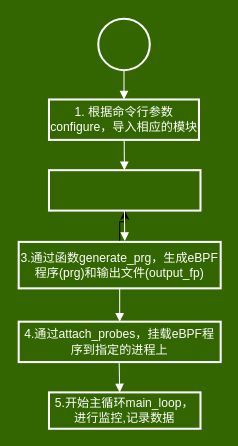
Some shapes in this 238 by 446 pixel diagram are drawn without their labels. Here are the shapes that lost their labels. From the top down, the box of each, then its label:
(97, 17, 150, 71): Start
(47, 169, 201, 211): 2. 获取被监控的进程proc
